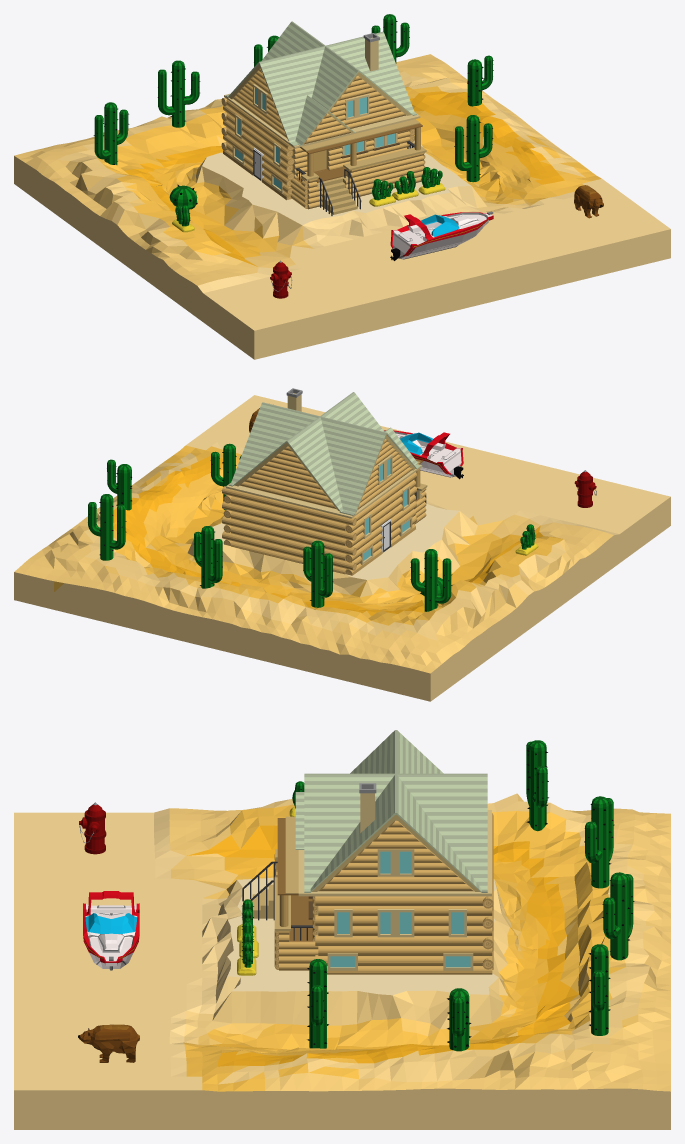
3 renders of one model, top to bottom at view 1: azimuth 30°, elevation 25°; view 2: azimuth 150°, elevation 25°; view 3: azimuth 270°, elevation 25°, orthographic. The views are drawn at different scales.
Parts seen in each view (by area): view 1: Cube.001, Cube.1516, VEHICLES_BOAT, Cylinder.037, Cylinder.044, Cylinder.045, Cylinder.038, Cylinder.042, ANIMAL_OSO, OBJRANDOM_FIRE_HYDRANT, Cylinder.039, Cylinder.041 (+2 smaller); view 2: Cube.001, Cube.1516, VEHICLES_BOAT, Cylinder.042, Cylinder.045, Cylinder.044, Cylinder.043, Cylinder.038, Cylinder.037, OBJRANDOM_FIRE_HYDRANT; view 3: Cube.001, Cube.1516, VEHICLES_BOAT, Cylinder.043, Cylinder.044, Cylinder.045, Cylinder.042, Cylinder.037, ANIMAL_OSO, Cylinder.038, OBJRANDOM_FIRE_HYDRANT, Cylinder.041.
Part boxes in pixels (<box>): Cube.001: <box>14,54,670,359</box>; Cube.1516: <box>221,21,426,215</box>; VEHICLES_BOAT: <box>390,211,493,260</box>; Cylinder.037: <box>454,115,493,182</box>; Cylinder.044: <box>157,60,200,127</box>; Cylinder.045: <box>93,102,129,164</box>; Cylinder.038: <box>467,55,493,106</box>; Cylinder.042: <box>371,14,409,63</box>; ANIMAL_OSO: <box>574,185,603,218</box>; OBJRANDOM_FIRE_HYDRANT: <box>270,260,292,298</box>; Cylinder.039: <box>369,179,395,206</box>; Cylinder.041: <box>418,167,445,194</box>; Cube.001: <box>14,395,670,701</box>; Cube.1516: <box>222,388,427,575</box>; VEHICLES_BOAT: <box>384,430,463,479</box>; Cylinder.042: <box>88,494,126,560</box>; Cylinder.045: <box>410,549,452,611</box>; Cylinder.044: <box>303,540,333,607</box>; Cylinder.043: <box>193,526,222,588</box>; Cylinder.038: <box>107,459,131,510</box>; Cylinder.037: <box>210,443,241,510</box>; OBJRANDOM_FIRE_HYDRANT: <box>574,470,596,507</box>; Cube.001: <box>14,793,670,1129</box>; Cube.1516: <box>242,730,493,974</box>; VEHICLES_BOAT: <box>83,891,139,970</box>; Cylinder.043: <box>602,872,634,960</box>; Cylinder.044: <box>584,796,614,888</box>; Cylinder.045: <box>526,740,548,831</box>; Cylinder.042: <box>588,944,610,1035</box>; Cylinder.037: <box>307,959,328,1048</box>; ANIMAL_OSO: <box>78,1024,139,1062</box>; Cylinder.038: <box>447,988,471,1051</box>; OBJRANDOM_FIRE_HYDRANT: <box>79,802,106,854</box>; Cylinder.041: <box>237,932,256,975</box>.
Size of the model in its own units: 4002 by 1627 by 4001.
Materials: 36 (3 with a texture image).
